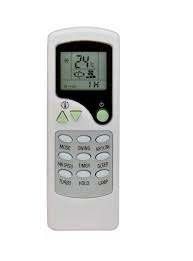remote control: (47, 30, 121, 231)
